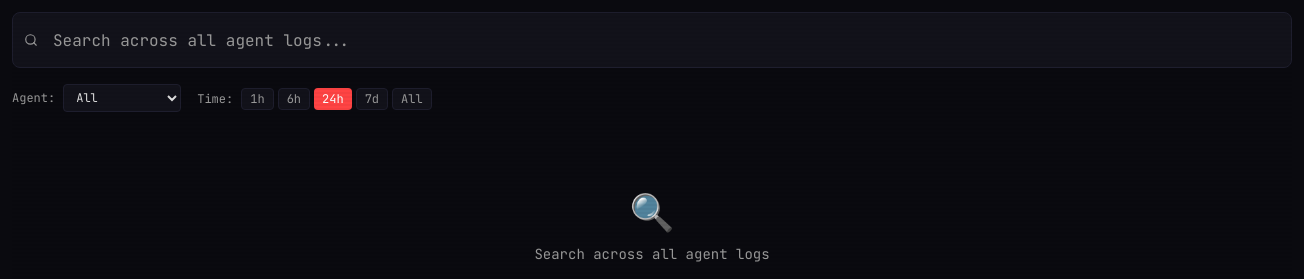
Test: LogSearch › should use Badge components for roles
Type "test query" into the field with placeholder "Search across all agent logs..." at [652, 40], box [12,12,1292,68]
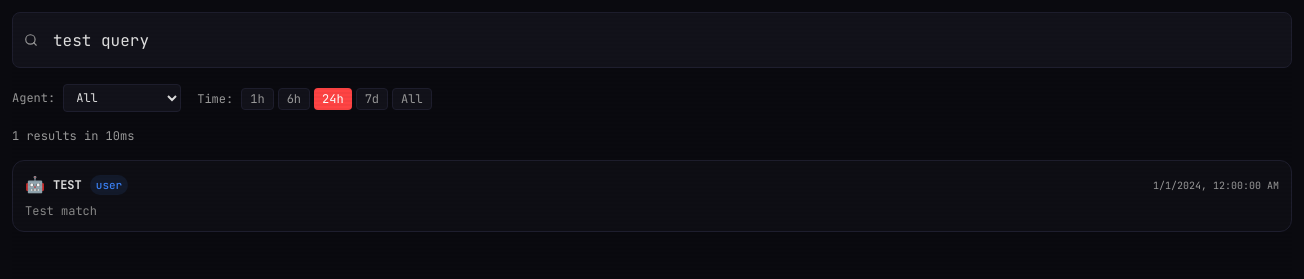
Result: the text "user" is shown at [90,175,128,195]
